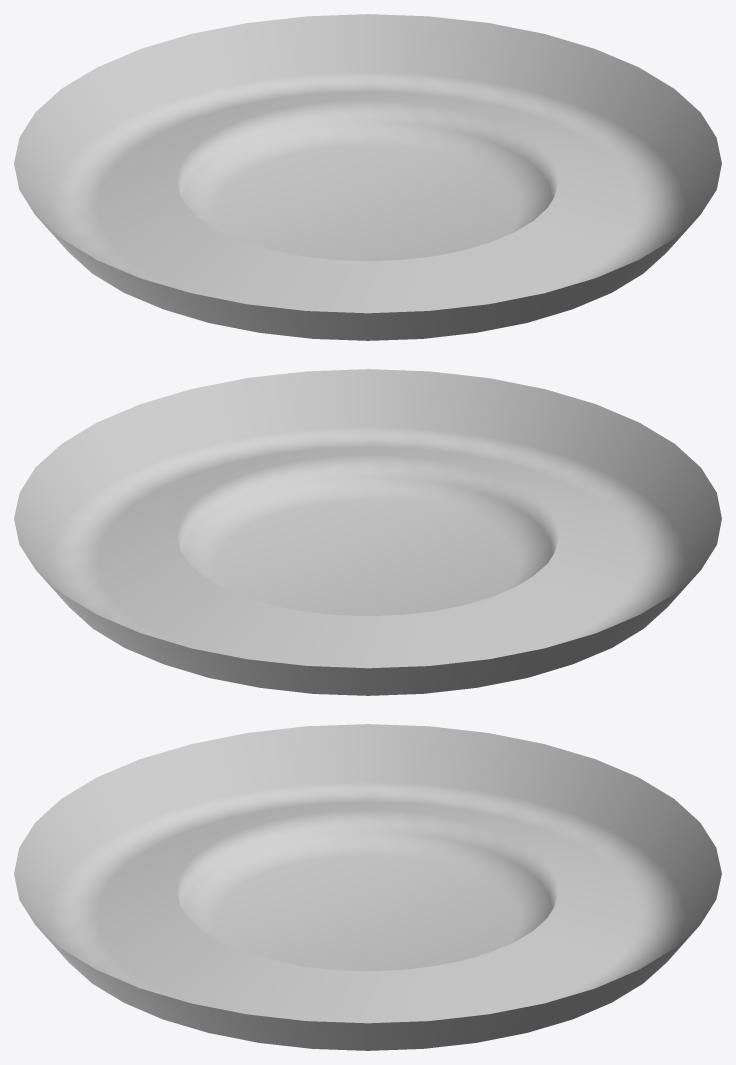
File: AirDiffuser.fbx
3 views of the same model, one above another, from view 1: azimuth 30°, elevation 25°; view 2: azimuth 150°, elevation 25°; view 3: azimuth 270°, elevation 25° (orthographic).
Visible parts, largest first — view 1: AirDiffuser; view 2: AirDiffuser; view 3: AirDiffuser.
Boxes of the visible parts, left/top/right/bottom form: AirDiffuser: left=14, top=14, right=721, bottom=340; AirDiffuser: left=14, top=369, right=721, bottom=695; AirDiffuser: left=14, top=724, right=721, bottom=1050.
Bounding box in the file's own units: 15 × 1.08 × 15.
